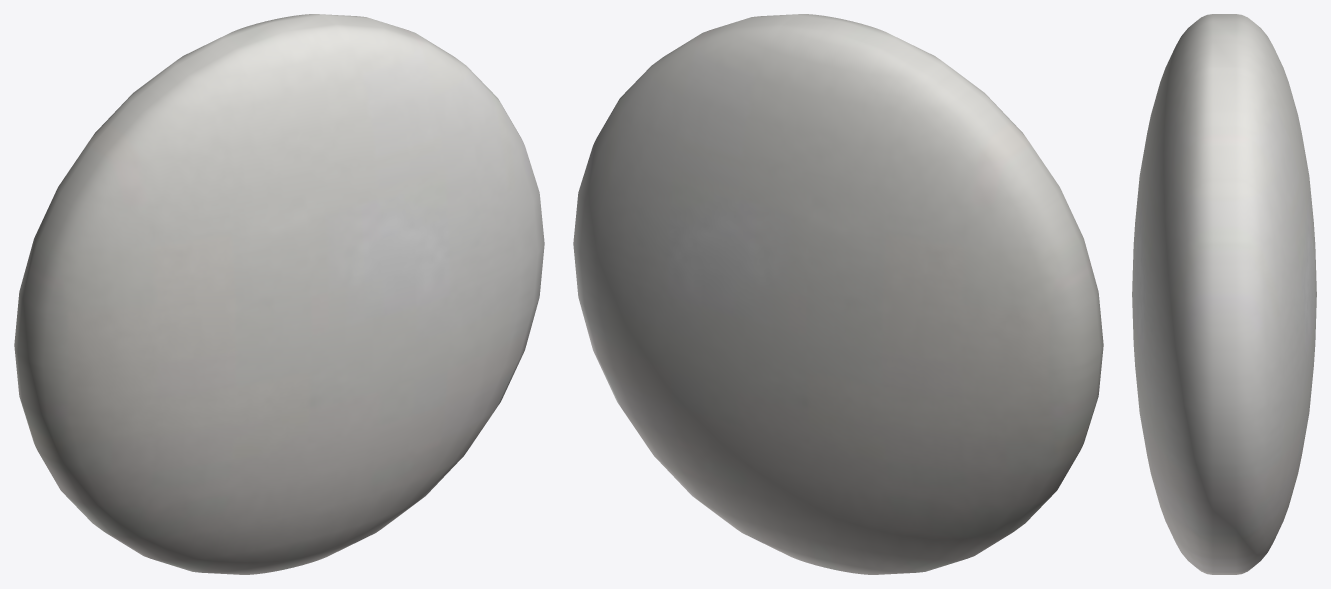
The model's file is 20140311GOPHDRGPT01924.fbx.
3 renders of one model, left to right at view 1: azimuth 30°, elevation 25°; view 2: azimuth 150°, elevation 25°; view 3: azimuth 270°, elevation 25°, orthographic. The views are drawn at different scales.
Visible parts, largest first — view 1: 球體.001; view 2: 球體.001; view 3: 球體.001.
Part boxes in pixels (left/top/right/bottom): 球體.001: left=14, top=14, right=544, bottom=574; 球體.001: left=573, top=14, right=1103, bottom=574; 球體.001: left=1132, top=14, right=1316, bottom=574.
Size of the model in its own units: 0.7043 by 0.7043 by 0.2318.
1 material, 1 textured.
